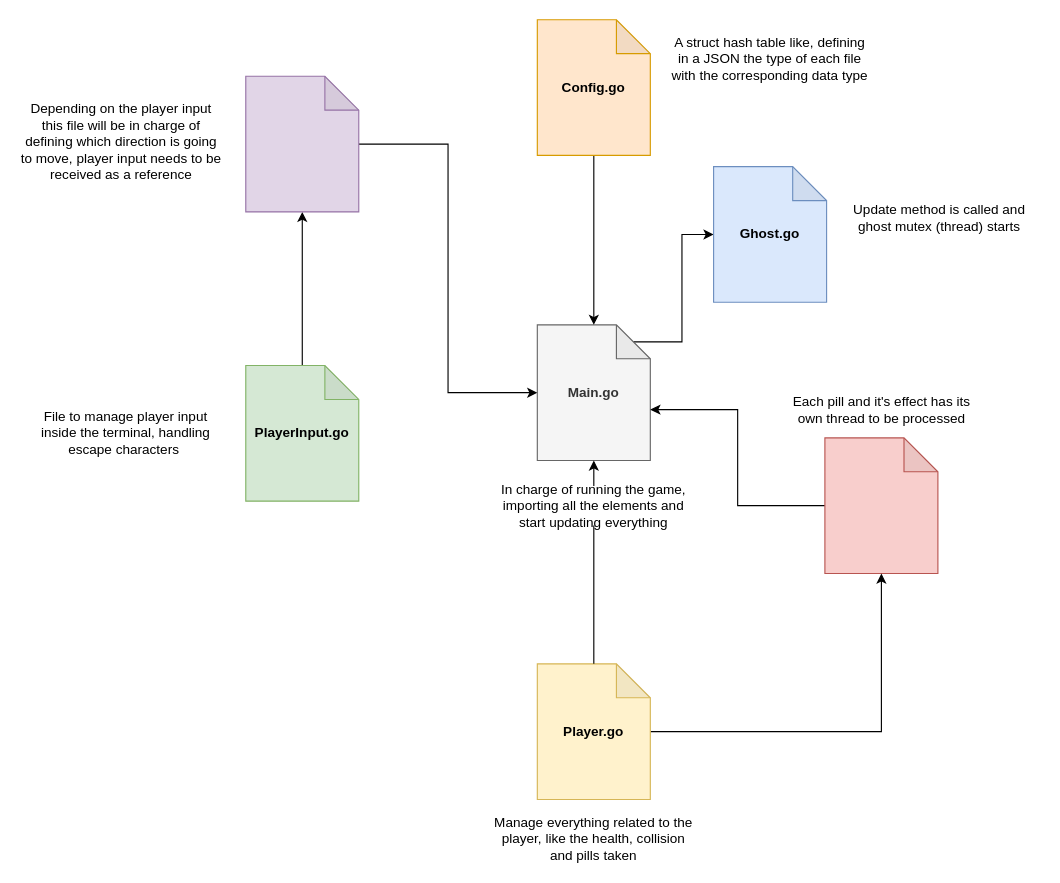
This 1060x883 diagram has some shape labels left out. Here are the shapes that lost their labels. From the top down, the centre of each, then its label:
At [302,143]: "Movement.go".
At [881,505]: "Pill.go".
